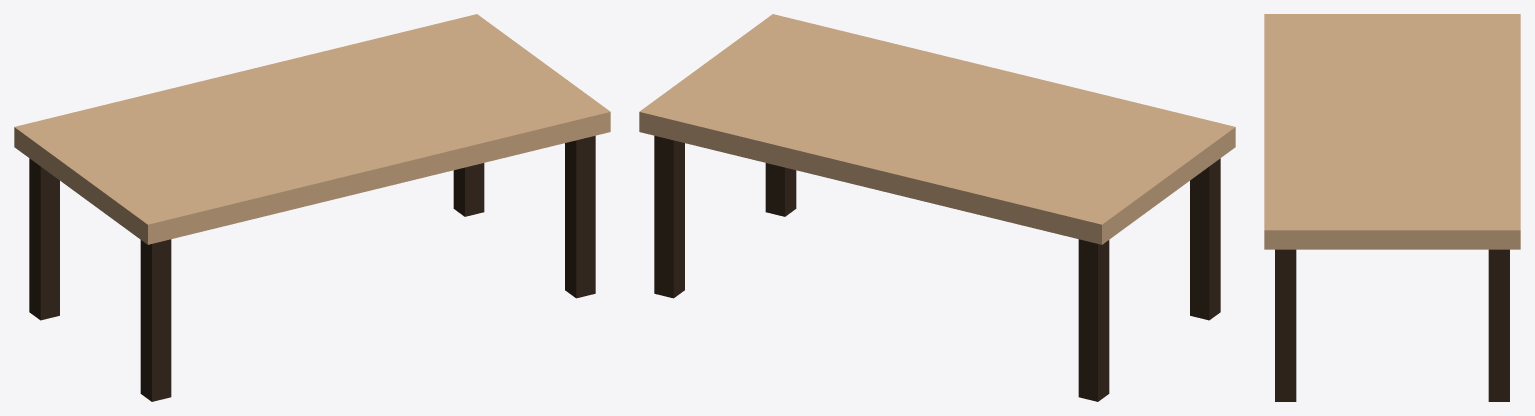
File: PRP_Table_Coffee_A.glb
The picture shows the model from 3 angles, left to right: view 1: azimuth 30°, elevation 25°; view 2: azimuth 150°, elevation 25°; view 3: azimuth 270°, elevation 25°; orthographic projection. The views are drawn at different scales.
Visible parts, largest first — view 1: PRP_Table_Coffee_A_Top, PRP_Table_Coffee_A_Leg0, PRP_Table_Coffee_A_Leg1, PRP_Table_Coffee_A_Leg2, PRP_Table_Coffee_A_Leg3; view 2: PRP_Table_Coffee_A_Top, PRP_Table_Coffee_A_Leg2, PRP_Table_Coffee_A_Leg3, PRP_Table_Coffee_A_Leg0, PRP_Table_Coffee_A_Leg1; view 3: PRP_Table_Coffee_A_Top, PRP_Table_Coffee_A_Leg1, PRP_Table_Coffee_A_Leg3.
Part boxes in pixels (x1,y1,x2,y2): PRP_Table_Coffee_A_Top: (14,14,610,244); PRP_Table_Coffee_A_Leg0: (140,239,171,401); PRP_Table_Coffee_A_Leg1: (565,135,595,298); PRP_Table_Coffee_A_Leg2: (29,158,59,320); PRP_Table_Coffee_A_Leg3: (453,163,484,216); PRP_Table_Coffee_A_Top: (639,14,1235,244); PRP_Table_Coffee_A_Leg2: (1078,239,1109,401); PRP_Table_Coffee_A_Leg3: (654,135,684,298); PRP_Table_Coffee_A_Leg0: (1190,158,1220,320); PRP_Table_Coffee_A_Leg1: (765,163,796,216); PRP_Table_Coffee_A_Top: (1264,14,1520,249); PRP_Table_Coffee_A_Leg1: (1275,249,1296,401); PRP_Table_Coffee_A_Leg3: (1488,249,1509,401).
Size of the model in its own units: 1.2 by 0.455 by 0.6.
